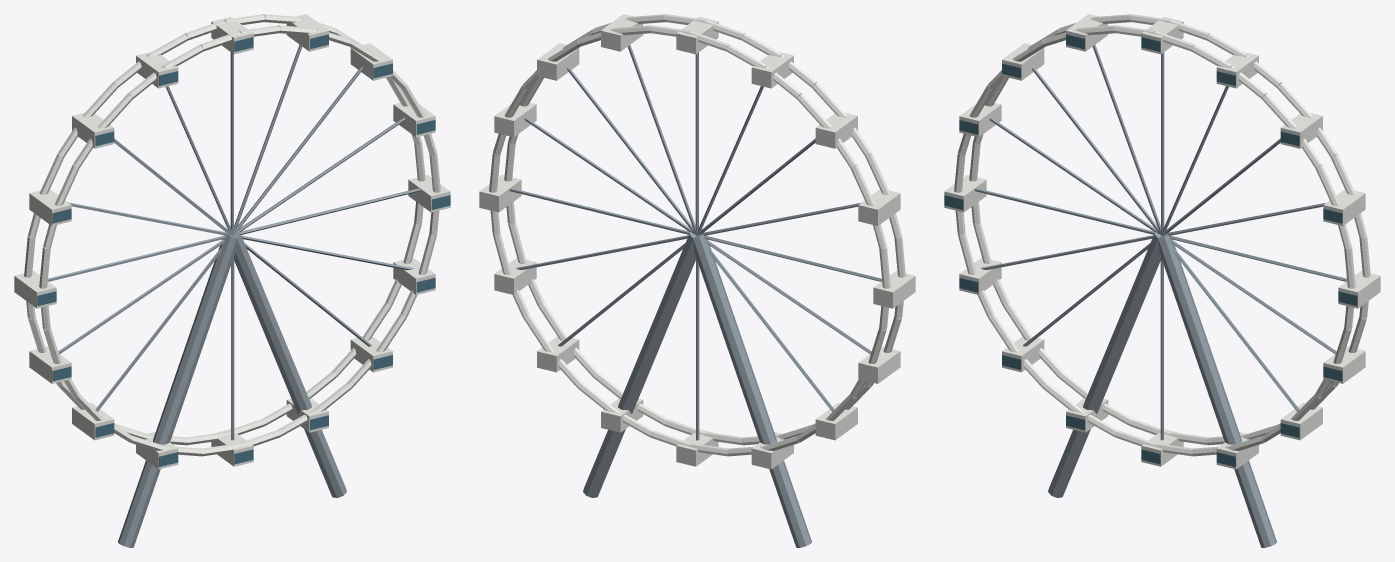
File: source.glb
3 views of the same model, side by side, from view 1: azimuth 30°, elevation 25°; view 2: azimuth 150°, elevation 25°; view 3: azimuth 330°, elevation 25° (orthographic).
Parts seen in each view (by area): view 1: worldgen; view 2: worldgen; view 3: worldgen.
Boxes of the visible parts, x1,y1,x2,y2 form: worldgen: (14,14,450,547); worldgen: (479,14,915,547); worldgen: (944,14,1380,547).
Size of the model in its own units: 50.4 by 57.69 by 4.87.
